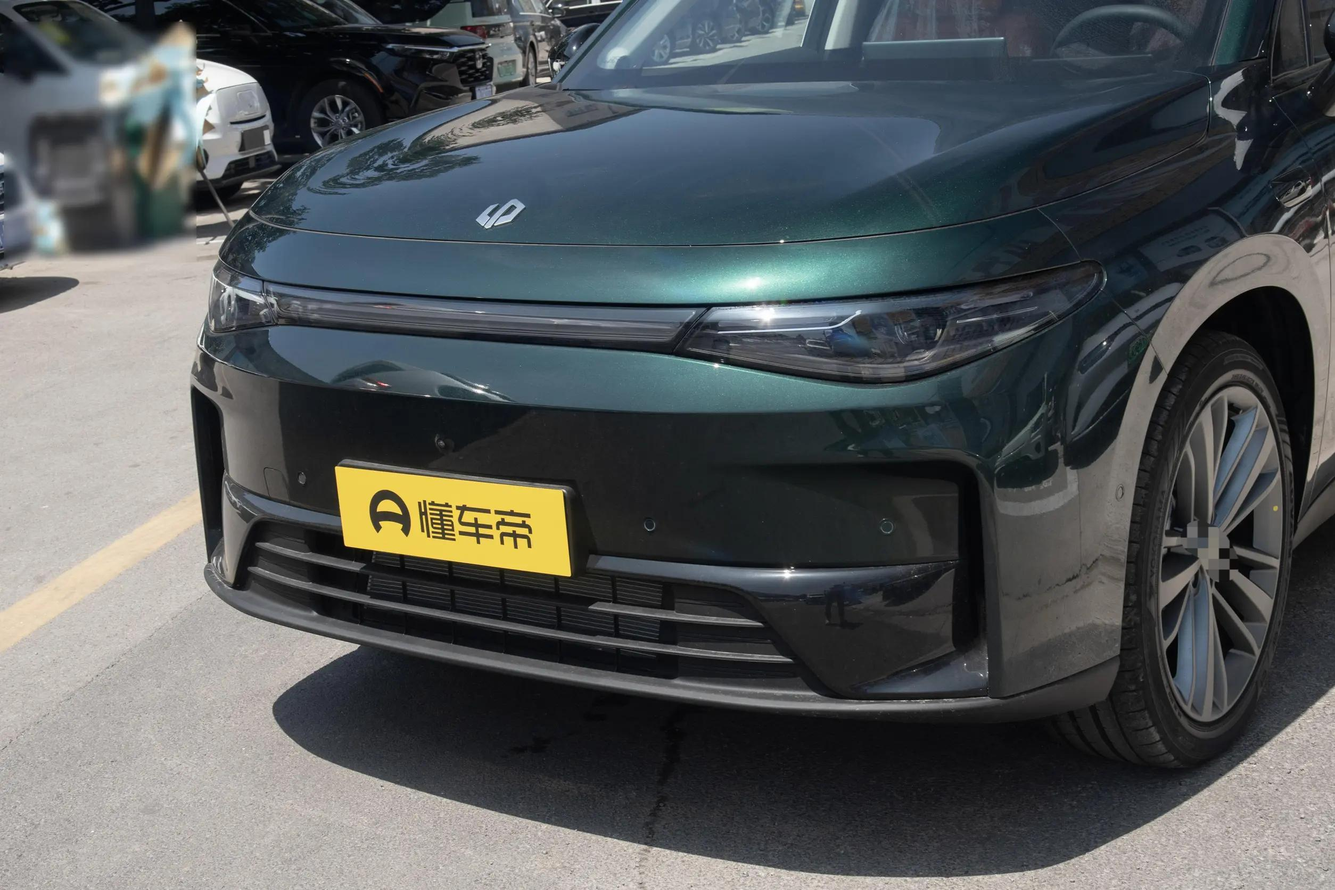LEAPMOTOR: (474, 197, 526, 229)
